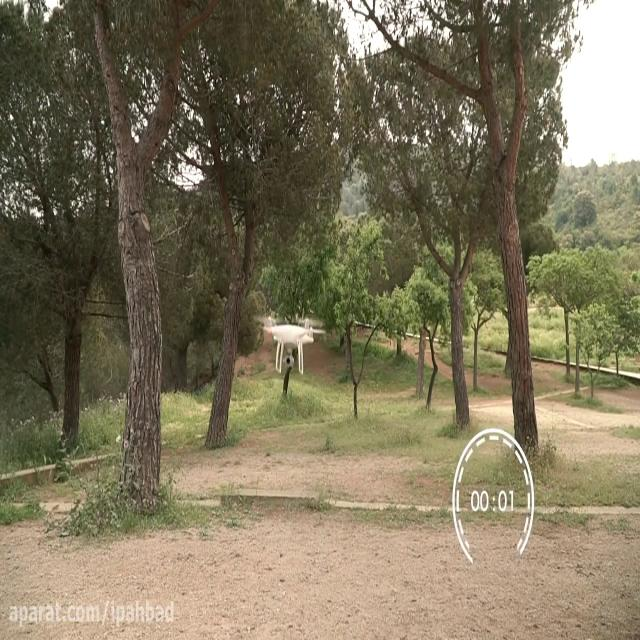drone: (249, 312, 325, 376)
